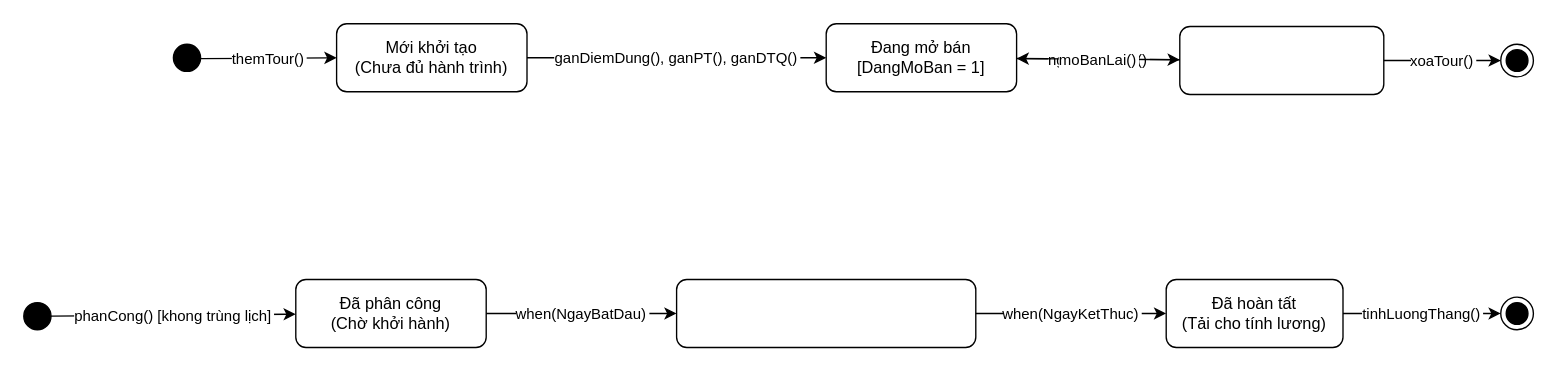
Image size: 1557x371. Some labels were removed from this diagram. The centre of each missing label's shape, as x and y in pixels:
"Tạm ngưng / Đóng bán [DangMoBan = 0]" goes at pixel 1281 60.
"Đang đi tour (NgayBatDau <= Today <= NgayKetThuc)" goes at pixel 825 312.
